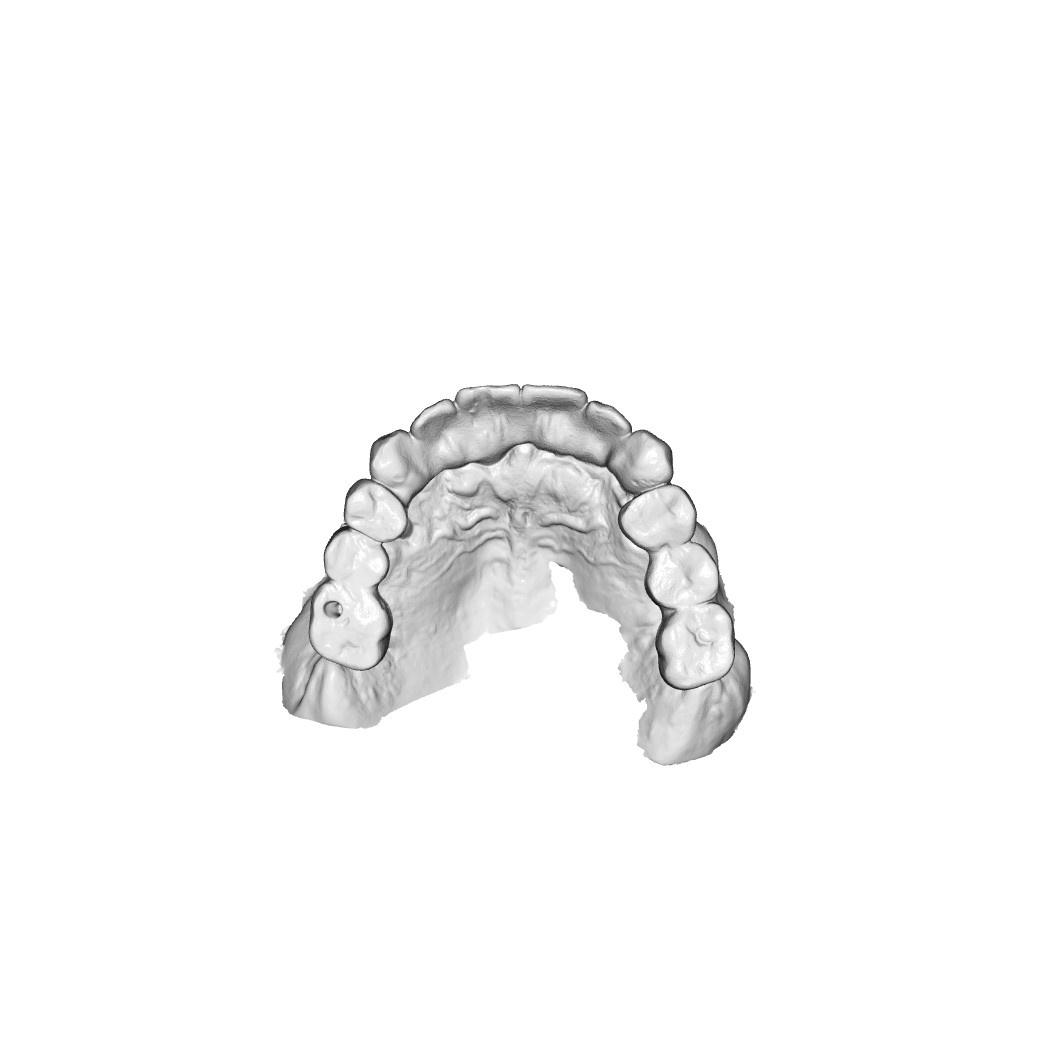canine: (615, 427, 676, 491), (368, 429, 423, 488)
incisor: (520, 379, 588, 440), (410, 400, 467, 472), (457, 385, 527, 441), (576, 397, 632, 454)
molar: (653, 602, 737, 692), (310, 584, 392, 673)
premolar: (618, 482, 697, 552), (643, 540, 722, 609), (321, 525, 389, 593), (340, 479, 410, 540)
